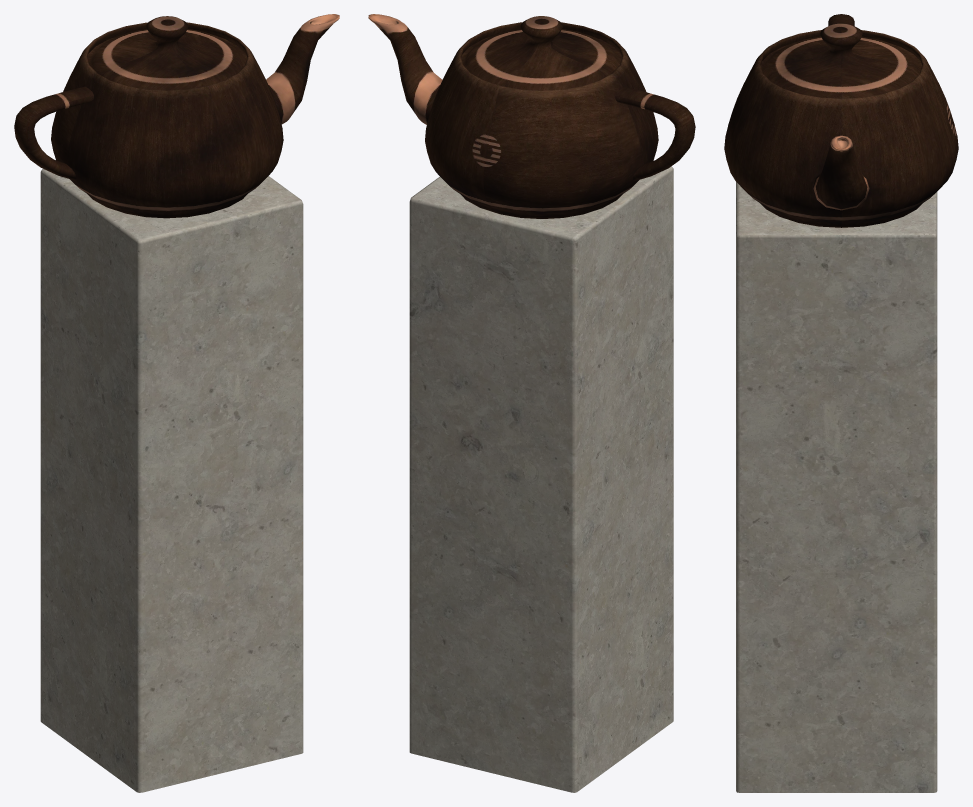
The model's file is utah.glb.
The picture shows the model from 3 angles, left to right: view 1: azimuth 30°, elevation 25°; view 2: azimuth 150°, elevation 25°; view 3: azimuth 270°, elevation 25°; orthographic projection.
Bounding box in the file's own units: 0.7735 × 1.63 × 0.4812.
Materials: 2 (2 with a texture image).
